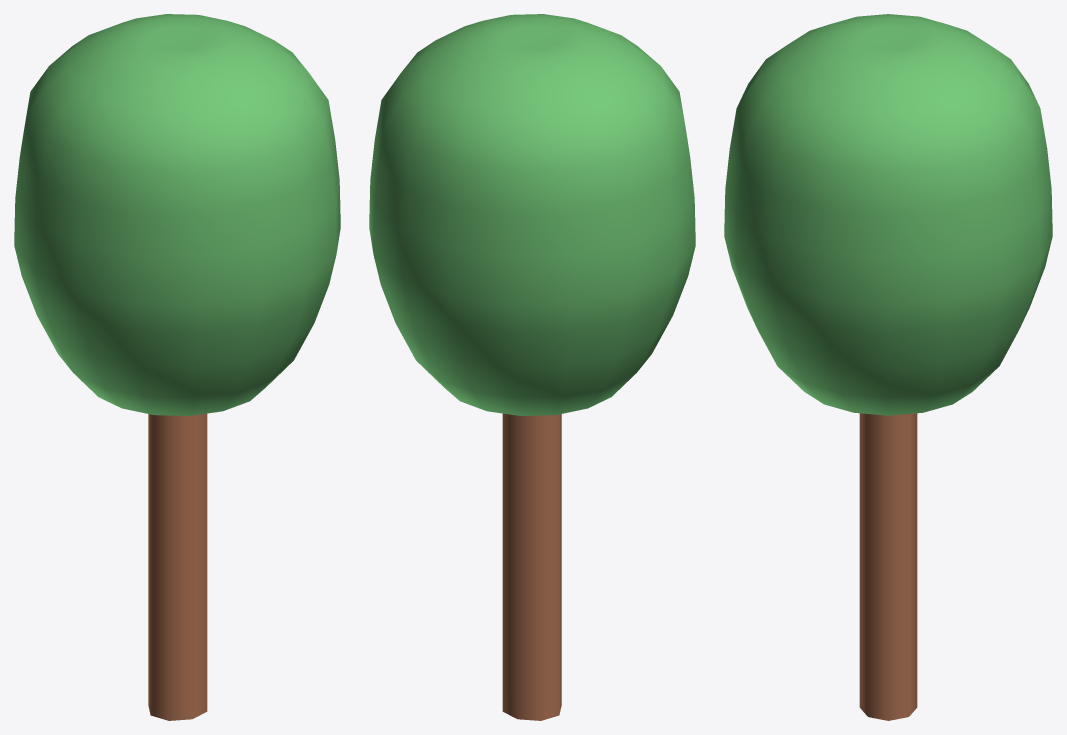
The model's file is Tree3.fbx.
3 views of the same model, side by side, from view 1: azimuth 30°, elevation 25°; view 2: azimuth 150°, elevation 25°; view 3: azimuth 270°, elevation 25° (orthographic).
Visible parts, largest first — view 1: Tree.002; view 2: Tree.002; view 3: Tree.002.
Part boxes in pixels (left/top/right/bottom): Tree.002: left=14, top=14, right=340, bottom=720; Tree.002: left=369, top=14, right=695, bottom=720; Tree.002: left=724, top=14, right=1052, bottom=720.
Size of the model in its own units: 555 by 1245 by 555.
